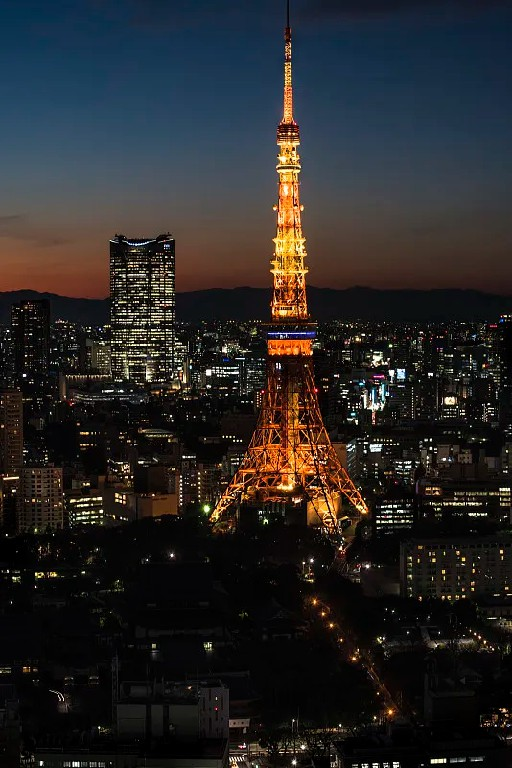Tokyo: (212, 1, 369, 539)
